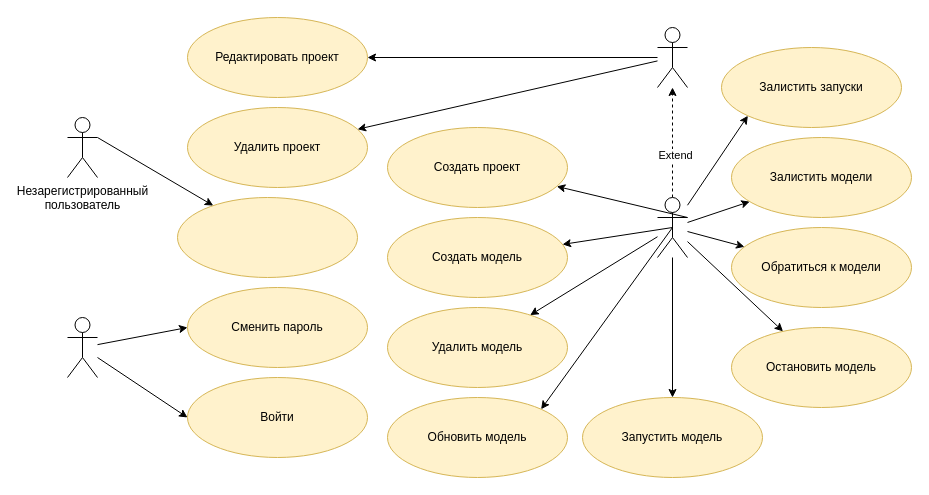
This 929x495 diagram has some shape labels left out. The centre of each missing label's shape, as x and y in pixels:
Админ проекта: pixel 672 57
Зарегестрироваться: pixel 267 237
Неавторизованный пользователь: pixel 82 347
Пользователь: pixel 672 227
